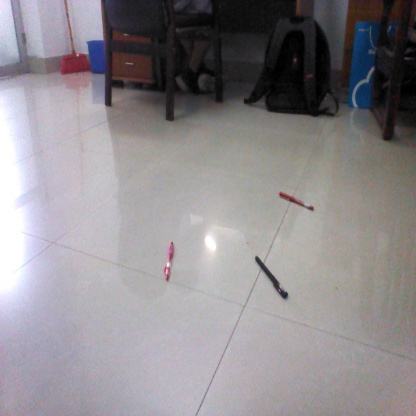pen: (255, 257, 290, 298), (277, 191, 315, 210), (162, 240, 176, 281)
